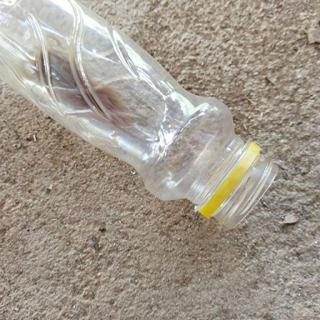Plastic-bottle: (1, 1, 279, 232)
